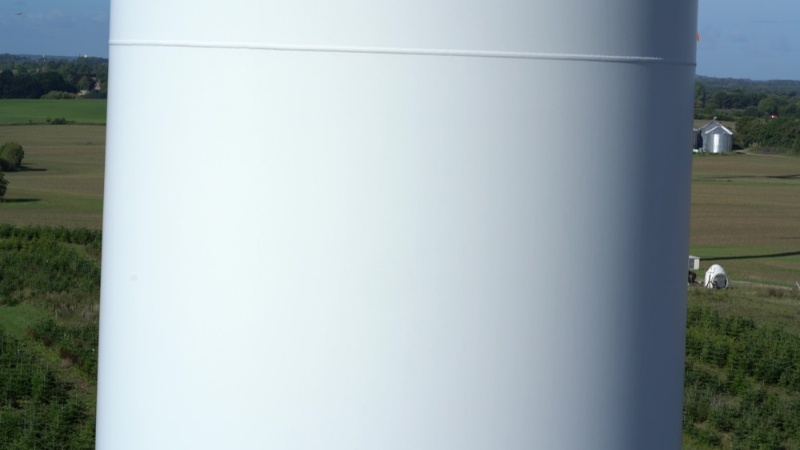weldseam: (107, 34, 698, 78)
